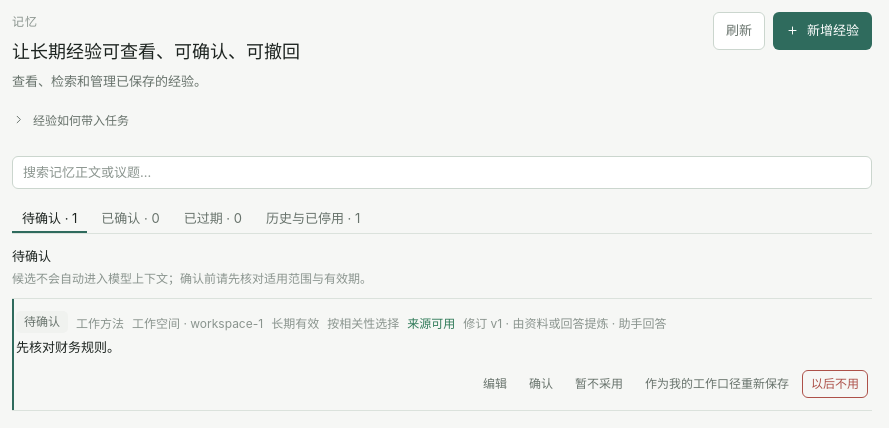
Test: MemoryPage › treats deleted records as terminal and keeps them out of the actionable groups
The width and height of the screenshot is (889, 428).
Expected: the number of buttons "以后不用" is 1, [802,370,868,398]
Click the tab "历史与已停用 · 1": (313, 217) [256,201,370,233]
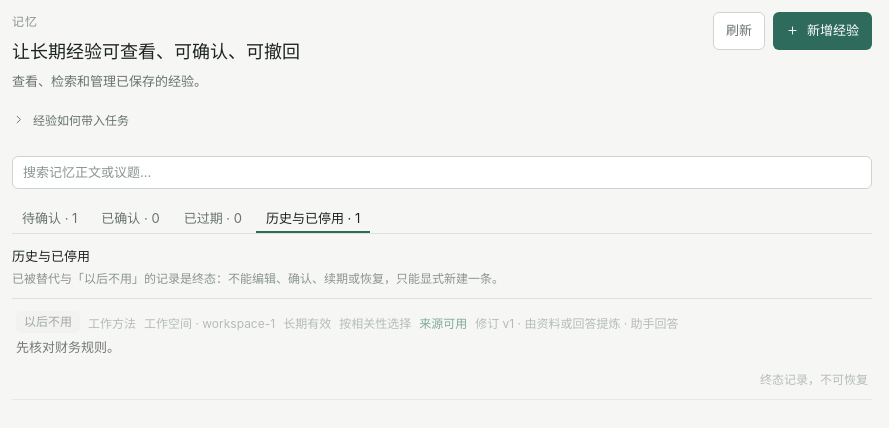
Expected: the text "终态记录，不可恢复" shows "先核对财务规则。", [16,339,120,355]
Expected: the text "终态记录，不可恢复" is shown, [760,370,868,387]
